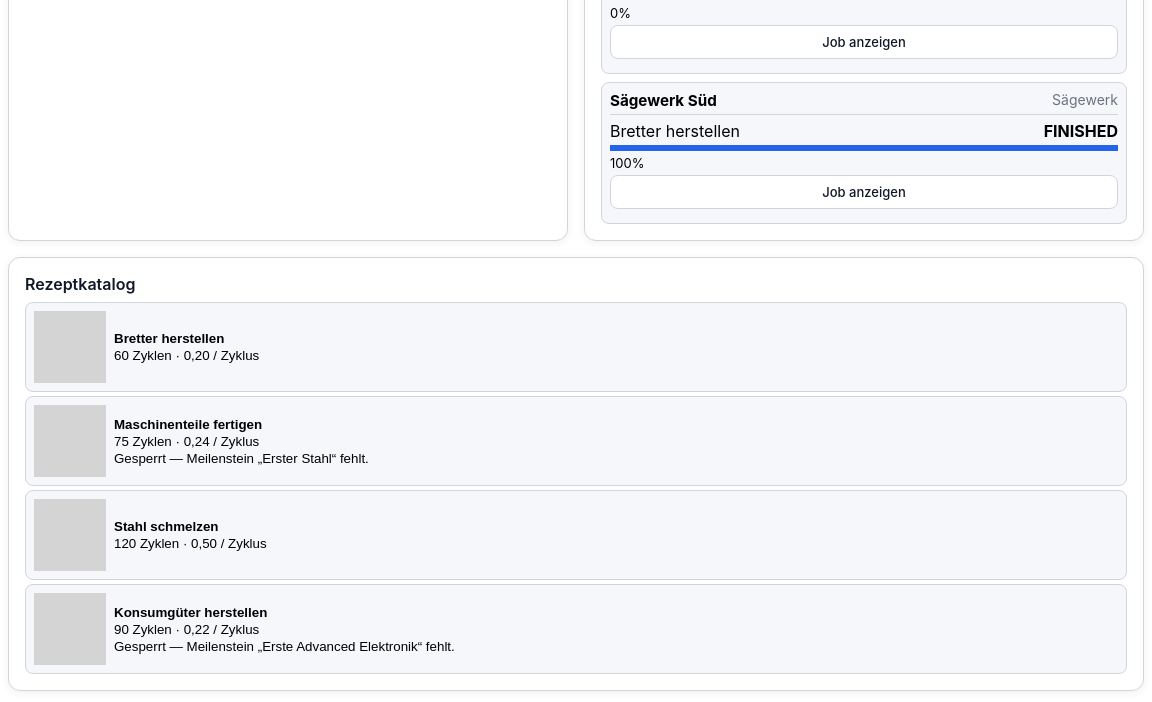
Test: ProductionScreen › shows Herstellbar durch between Eingaben and Ausgaben with disclaimer
(page scrolled)
Click the button "Bretter herstellen 60 Zyklen · 0,20 / Zyklus" at (70, 347), box top-left (25, 302), bottom-right (1127, 392)
(page scrolled)
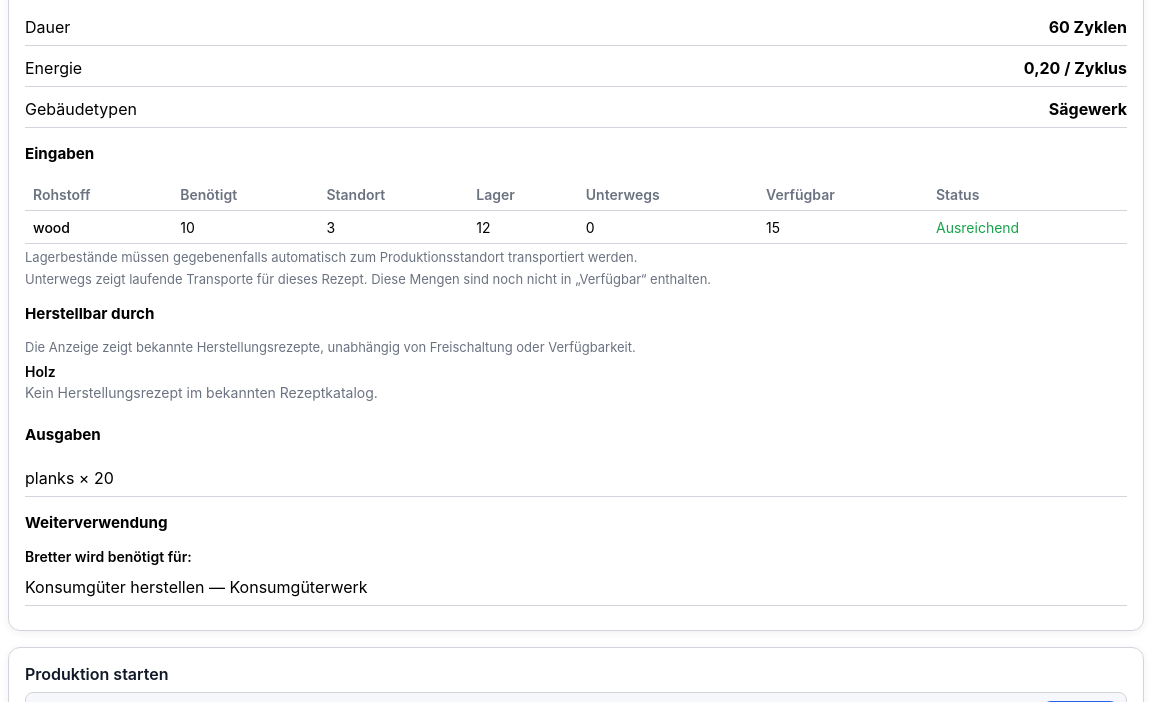
Expected: the text "Herstellbar durch" is shown, top-left (25, 304), bottom-right (154, 323)
Expected: the text "Die Anzeige zeigt bekannte Herstellungsrezepte, unabhängig von Freischaltung oder Verfügbarkeit." is shown, top-left (25, 339), bottom-right (636, 355)
